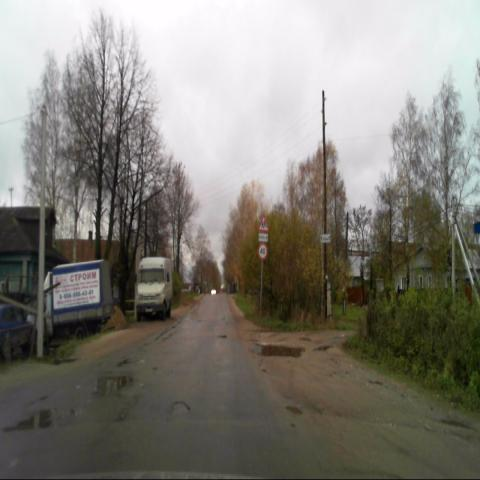1_23: (258, 214, 269, 233)
3_24: (257, 242, 268, 260)
